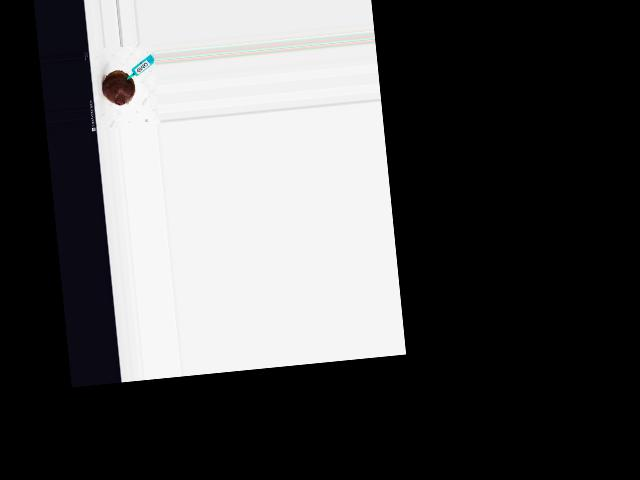beet: (100, 69, 136, 106)
